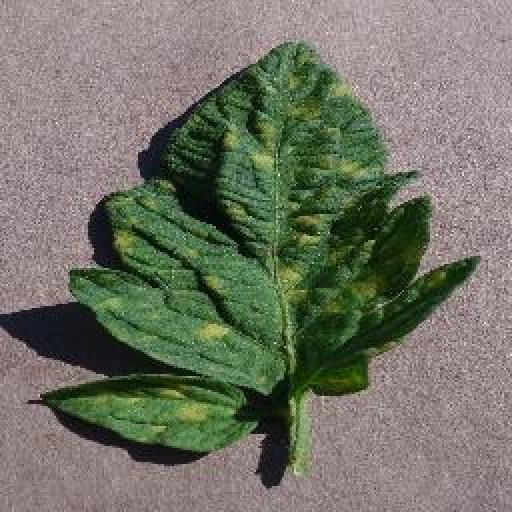Leaf Mold: (40, 37, 482, 455)
